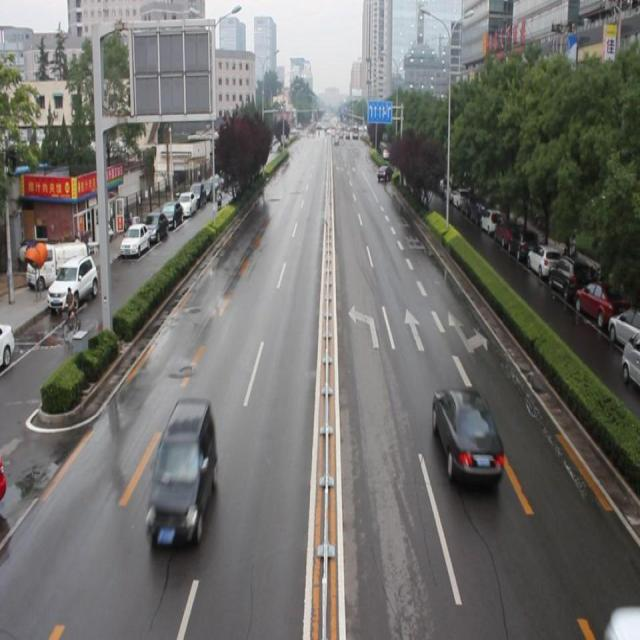car: (430, 386, 503, 491), (377, 162, 392, 182)
truck: (145, 399, 216, 553)
